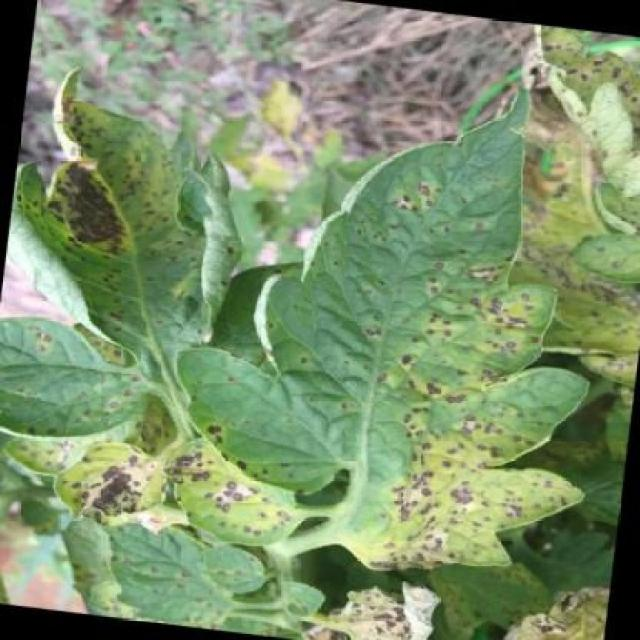Septoria leaf spot: (340, 144, 609, 587), (4, 62, 244, 302), (44, 412, 330, 556), (69, 512, 289, 636), (0, 321, 149, 453)
